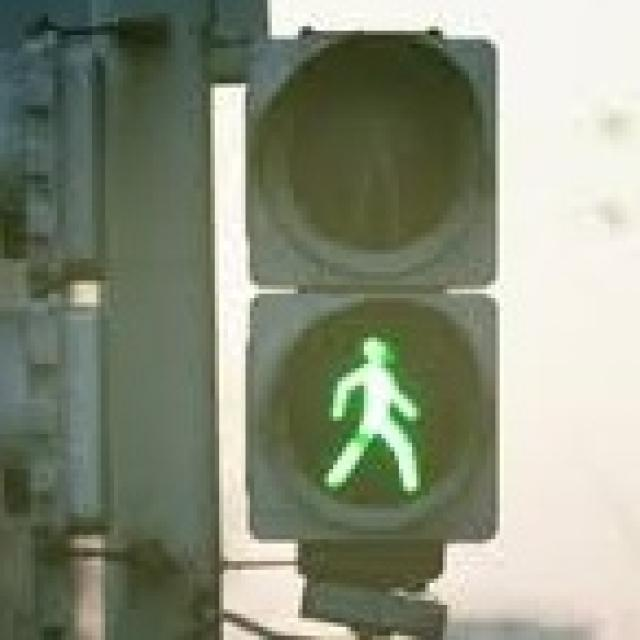green_light: (311, 320, 425, 508)
